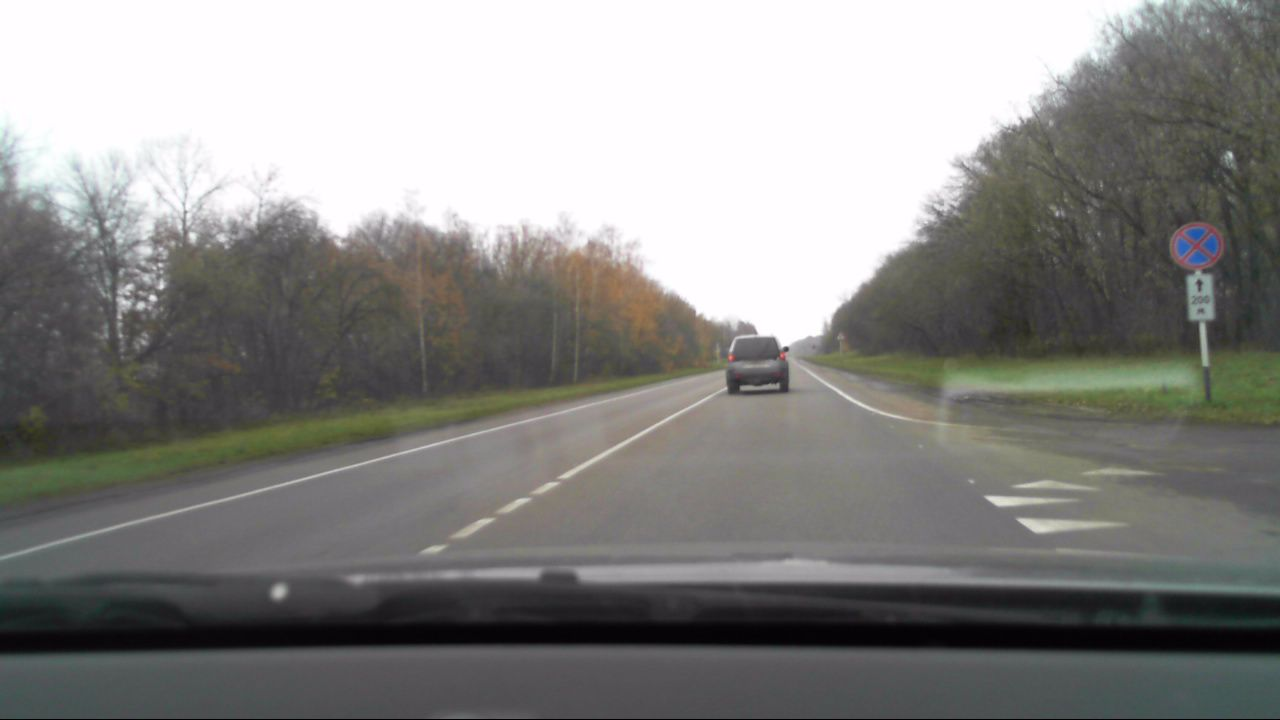No Parking: (1170, 220, 1226, 275)
